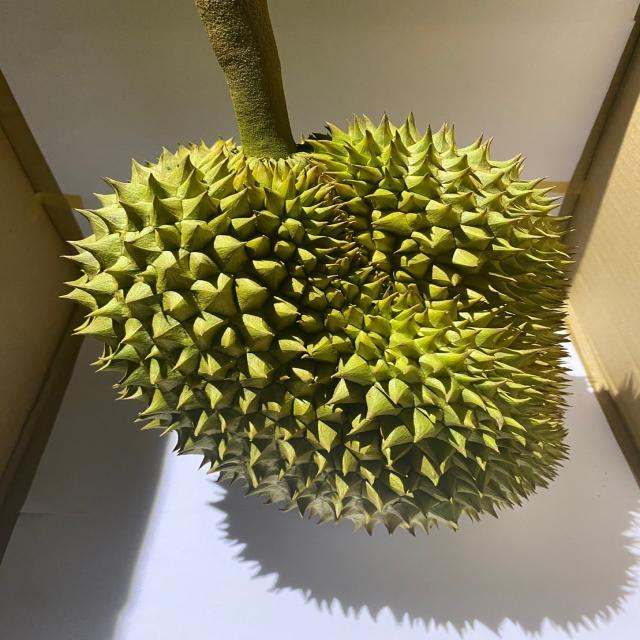immature: (64, 115, 580, 543)
